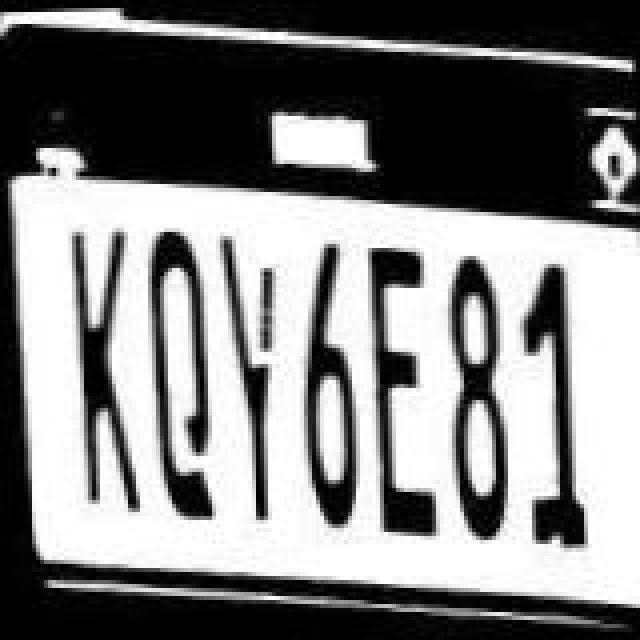1: (508, 260, 592, 548)
6: (292, 230, 372, 522)
8: (438, 250, 514, 538)
E: (358, 248, 450, 540)
K: (66, 226, 150, 510)
Q: (132, 220, 228, 516)
Y: (214, 228, 306, 528)
